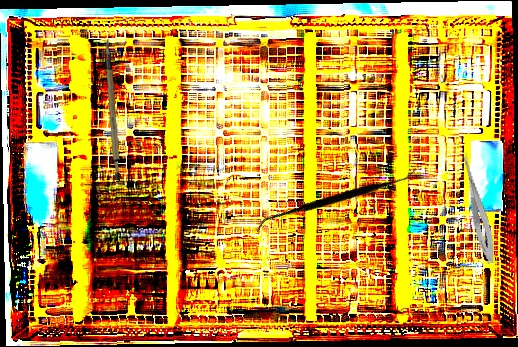Micro Scissor: (454, 150, 500, 266)
Scalpel Handle: (96, 39, 132, 181)
Spatula Surgical: (254, 113, 419, 287)
